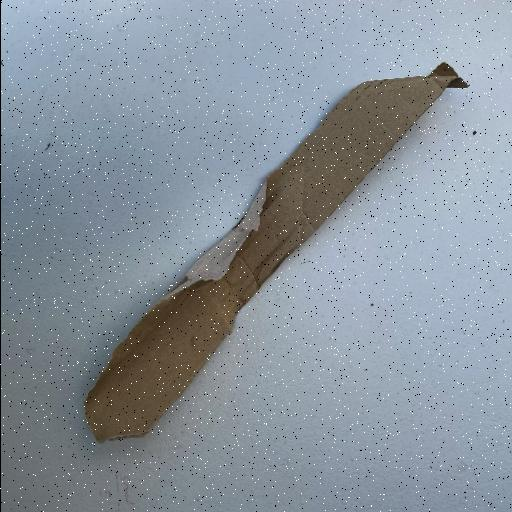Cardboard: (81, 60, 471, 446)
